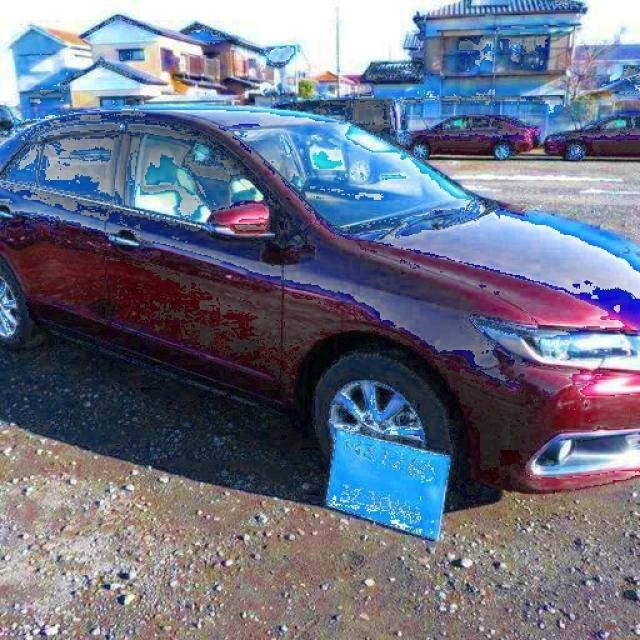maroon: (0, 118, 640, 497)
